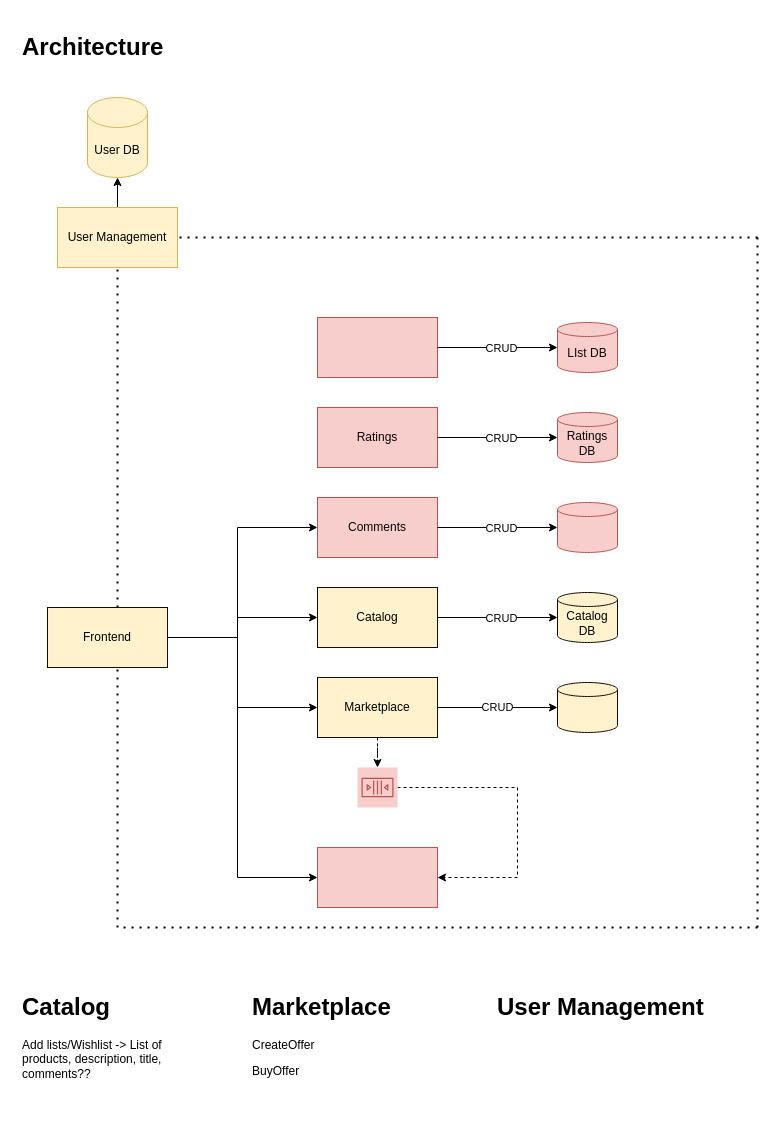
The diagram is 776 pixels wide and 1124 high, and some of its shapes have lost their labels. The shapes that lost their labels are listed below. From the top down, each one's centre as x and y in pixels, then its label:
(377,347): List
(587,527): Comments DB
(587,707): Offer DB
(377,787): Notif Queue
(377,877): Notification
